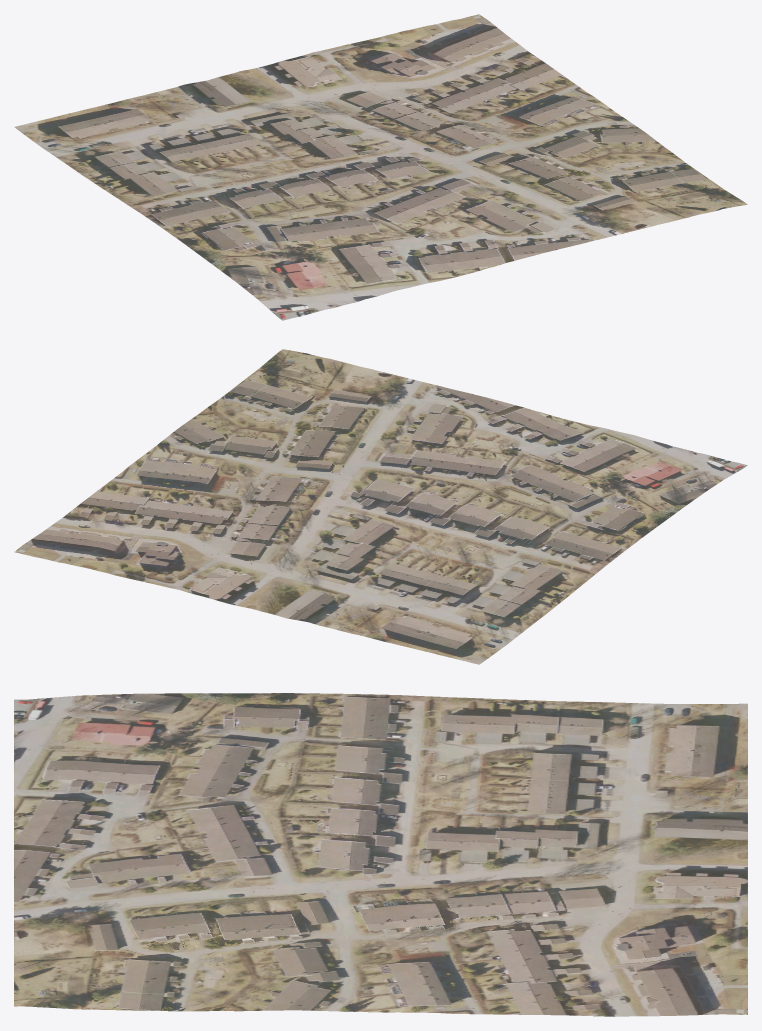
The model's file is CM_Terrain_24490868_6820204.fbx.
3 views of the same model, one above another, from view 1: azimuth 30°, elevation 25°; view 2: azimuth 150°, elevation 25°; view 3: azimuth 270°, elevation 25° (orthographic). The views are drawn at different scales.
Parts seen in each view (by area): view 1: CM_Terrain_24490868_6820204_LOD0; view 2: CM_Terrain_24490868_6820204_LOD0; view 3: CM_Terrain_24490868_6820204_LOD0.
Part boxes in pixels (x1,y1,x2,y2): CM_Terrain_24490868_6820204_LOD0: [14, 14, 747, 320]; CM_Terrain_24490868_6820204_LOD0: [14, 349, 747, 664]; CM_Terrain_24490868_6820204_LOD0: [14, 693, 747, 1016].
Size of what is drawn, in the model's own units: 205 by 5.3 by 205.
